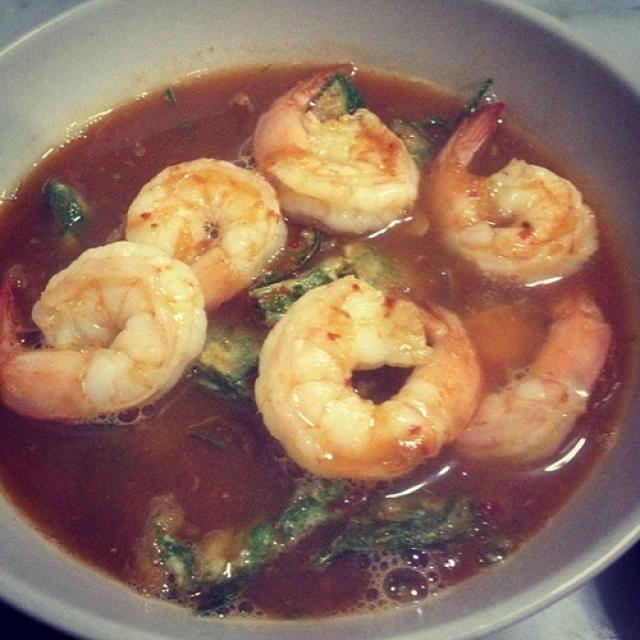汤锅炖物: (9, 13, 635, 623)
